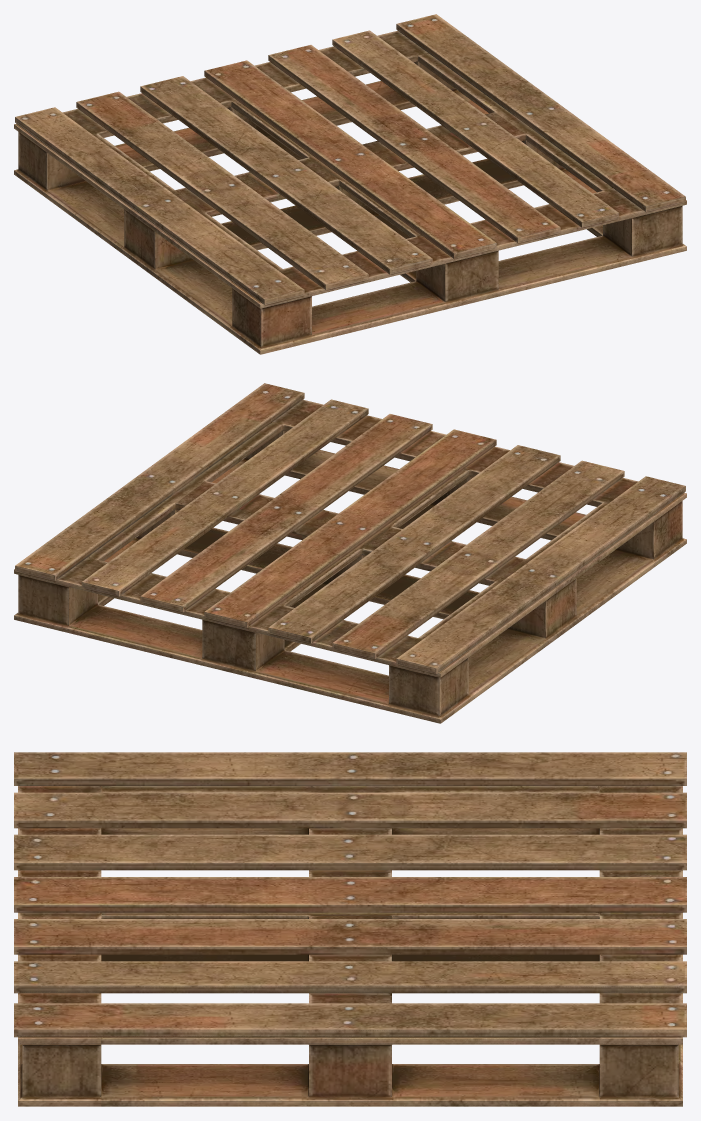
File: wooden_pallet1.glb
3 views of the same model, one above another, from view 1: azimuth 30°, elevation 25°; view 2: azimuth 150°, elevation 25°; view 3: azimuth 270°, elevation 25° (orthographic). The views are drawn at different scales.
Visible parts, largest first — view 1: pallet1v1_LOD0__0, pallet1v1_LOD1__0, pallet1v1_LOD2__0; view 2: pallet1v1_LOD1__0, pallet1v1_LOD0__0, pallet1v1_LOD2__0; view 3: pallet1v1_LOD0__0, pallet1v1_LOD1__0, pallet1v1_LOD2__0.
Part boxes in pixels (x1,y1,x2,y2): pallet1v1_LOD0__0: (16, 27, 682, 352); pallet1v1_LOD1__0: (14, 15, 685, 353); pallet1v1_LOD2__0: (14, 14, 686, 354); pallet1v1_LOD1__0: (15, 384, 686, 722); pallet1v1_LOD0__0: (18, 396, 683, 721); pallet1v1_LOD2__0: (14, 383, 686, 723); pallet1v1_LOD0__0: (20, 755, 680, 1105); pallet1v1_LOD1__0: (16, 753, 684, 1105); pallet1v1_LOD2__0: (14, 752, 686, 1106).
Bounding box in the file's own units: 0.8 × 0.1 × 0.81.
Materials: 1 (1 with a texture image).
